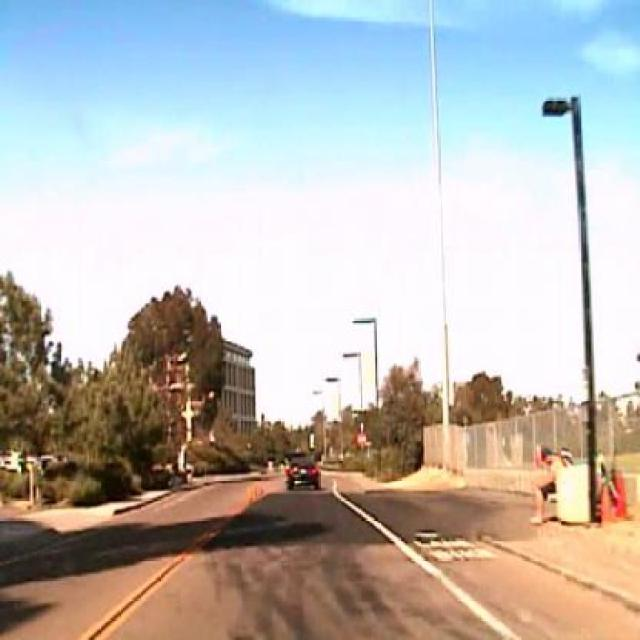stop: (357, 432, 367, 446)
